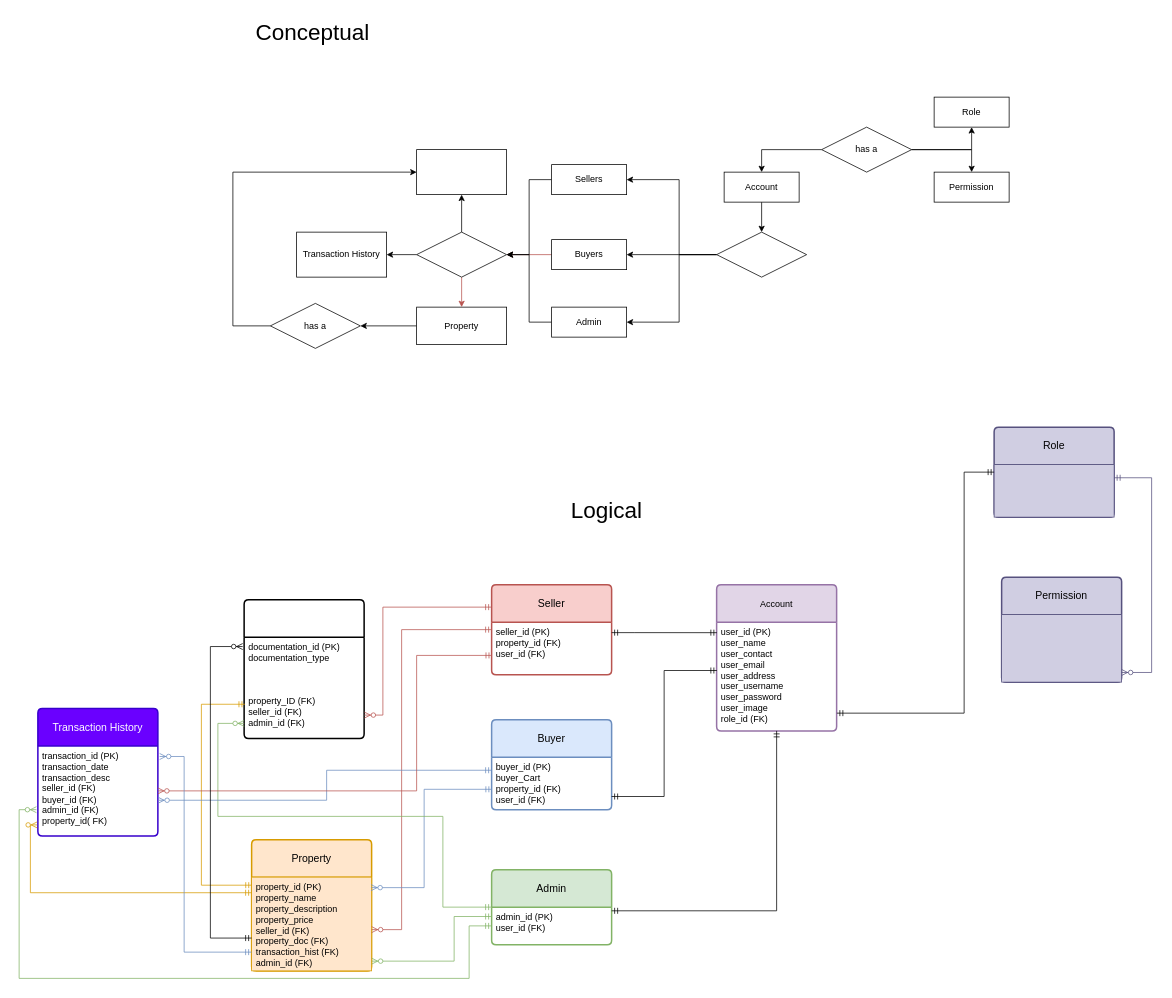
Image size: 1172x998. Some labels were removed from this diagram. The box of each missing label's shape, as (x1, y1, x2, y2) in pixels:
can be: (716, 231, 807, 277)
Documents: (243, 598, 364, 739)
manage: (416, 231, 507, 277)
permission_id (PK) permission_name permission_perks permission_role_id (FK): (1001, 614, 1122, 682)
Registrations: (416, 149, 507, 195)
role_id (PK) role_name role_description: (993, 464, 1114, 517)
